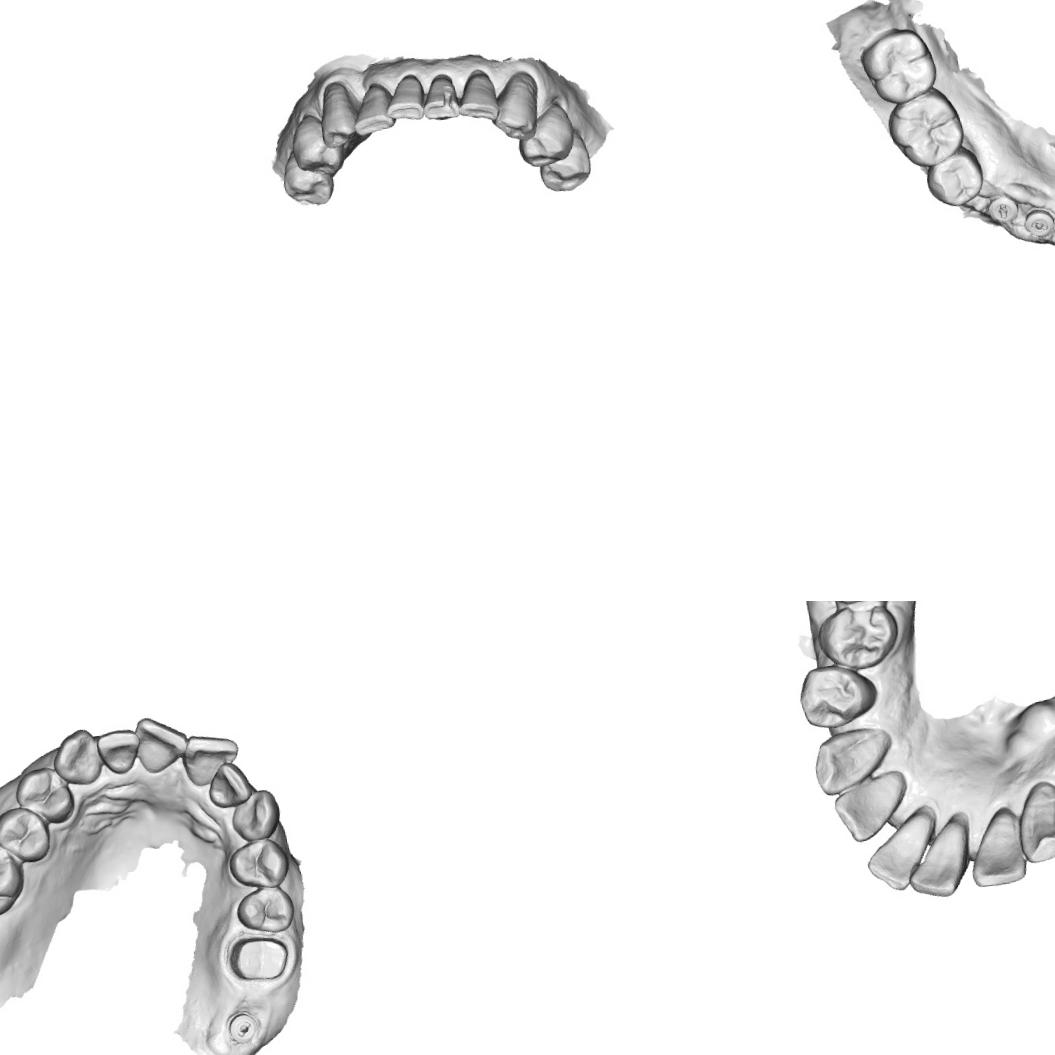canine: (806, 723, 898, 800), (486, 68, 544, 144), (1009, 776, 1055, 867), (48, 724, 104, 790), (314, 78, 362, 150), (225, 786, 284, 844)
crown: (224, 930, 294, 988)
implant_minus: (224, 1006, 264, 1048), (985, 190, 1018, 224), (1020, 208, 1054, 239)
incisor: (902, 824, 971, 902), (860, 822, 932, 894), (832, 777, 906, 846), (965, 812, 1028, 890), (128, 710, 192, 778), (180, 729, 244, 790), (348, 81, 399, 137), (204, 757, 256, 811), (454, 67, 500, 125), (94, 726, 144, 779), (382, 72, 428, 125), (418, 71, 461, 124)
molar: (886, 90, 964, 164), (861, 30, 934, 104), (0, 832, 30, 924)
premolar: (810, 601, 906, 674), (792, 659, 881, 735), (513, 101, 579, 170), (10, 762, 78, 828), (288, 108, 348, 181), (276, 140, 338, 210), (224, 834, 293, 893), (923, 145, 984, 210), (535, 128, 594, 194), (232, 880, 298, 938), (0, 802, 54, 868)
